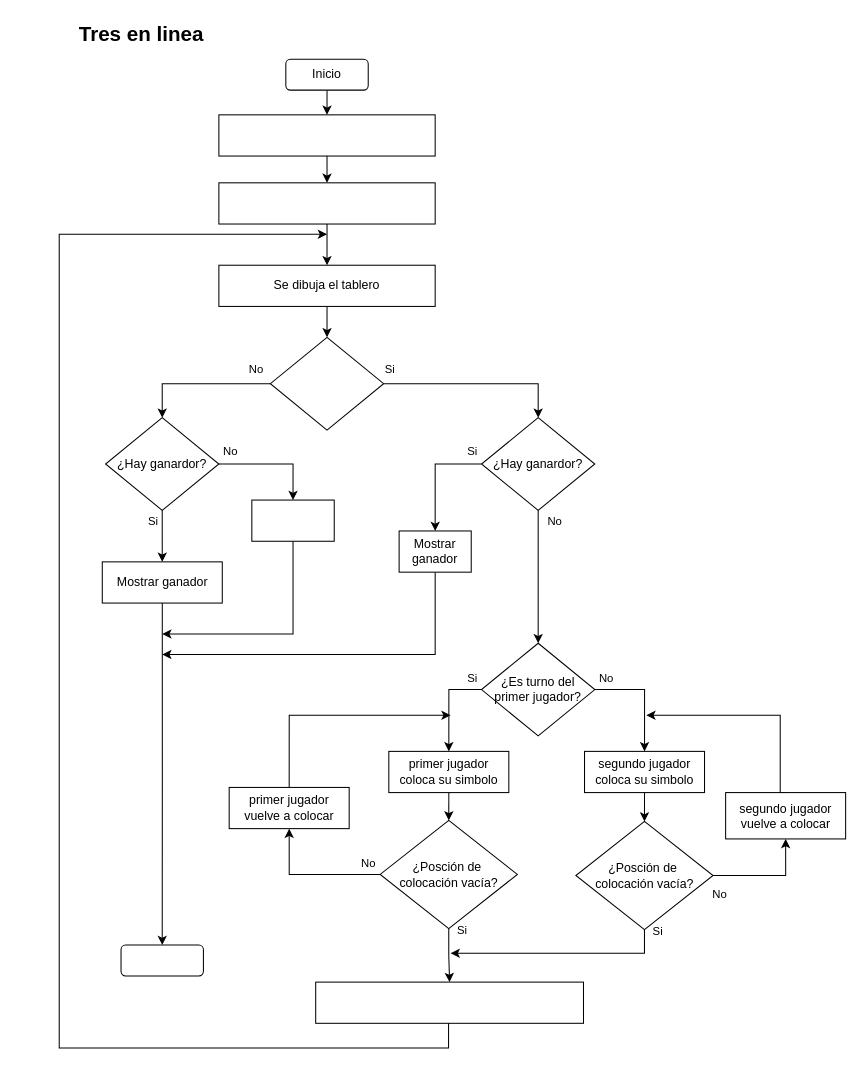
Some shapes in this 863 by 1074 pixel diagram are drawn without their labels. Each missing label, with the centre of its shape:
"- Actualiza tablero de juego. - Pasa al siguiente turno" goes at pixel 449 1002.
"Crear el tablero de juego (3x3)" goes at pixel 326 135.
"Fin" goes at pixel 161 960.
"Mostrar empate" goes at pixel 292 520.
"Se inicia turno a 0" goes at pixel 326 203.
"¿Turno <9?" goes at pixel 326 383.
